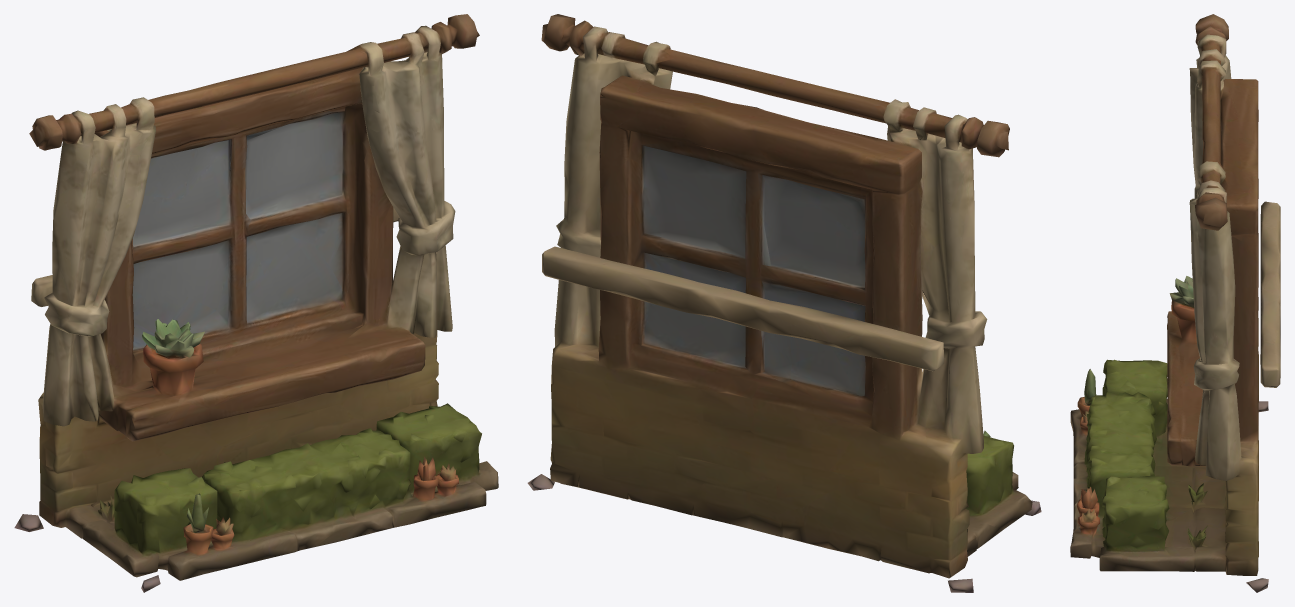
File: office_window.glb
3 views of the same model, side by side, from view 1: azimuth 30°, elevation 25°; view 2: azimuth 150°, elevation 25°; view 3: azimuth 270°, elevation 25° (orthographic). The views are drawn at different scales.
Parts seen in each view (by area): view 1: tripo_node_39032afe-fb64-40bf-8239-d53212208a37; view 2: tripo_node_39032afe-fb64-40bf-8239-d53212208a37; view 3: tripo_node_39032afe-fb64-40bf-8239-d53212208a37.
Part boxes in pixels (<box>): tripo_node_39032afe-fb64-40bf-8239-d53212208a37: <box>14,14,498,592</box>; tripo_node_39032afe-fb64-40bf-8239-d53212208a37: <box>527,14,1041,592</box>; tripo_node_39032afe-fb64-40bf-8239-d53212208a37: <box>1070,14,1280,592</box>.
Size of the model in its own units: 1 by 0.9377 by 0.4562.
Materials: 1 (1 with a texture image).
